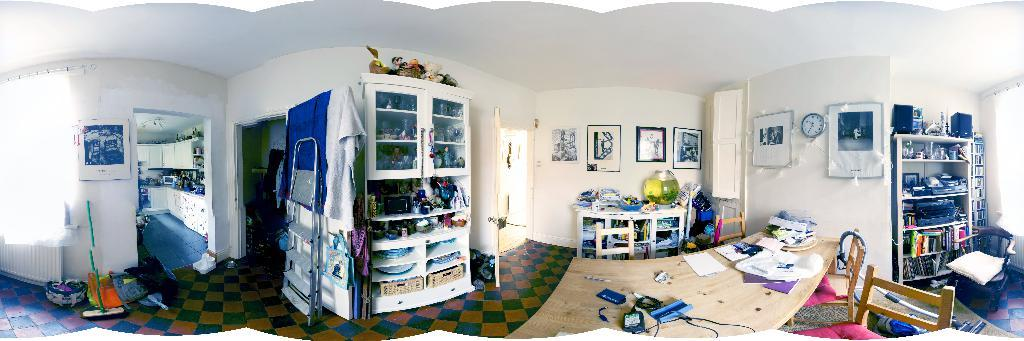Computer-monitor: (826, 101, 884, 178)
